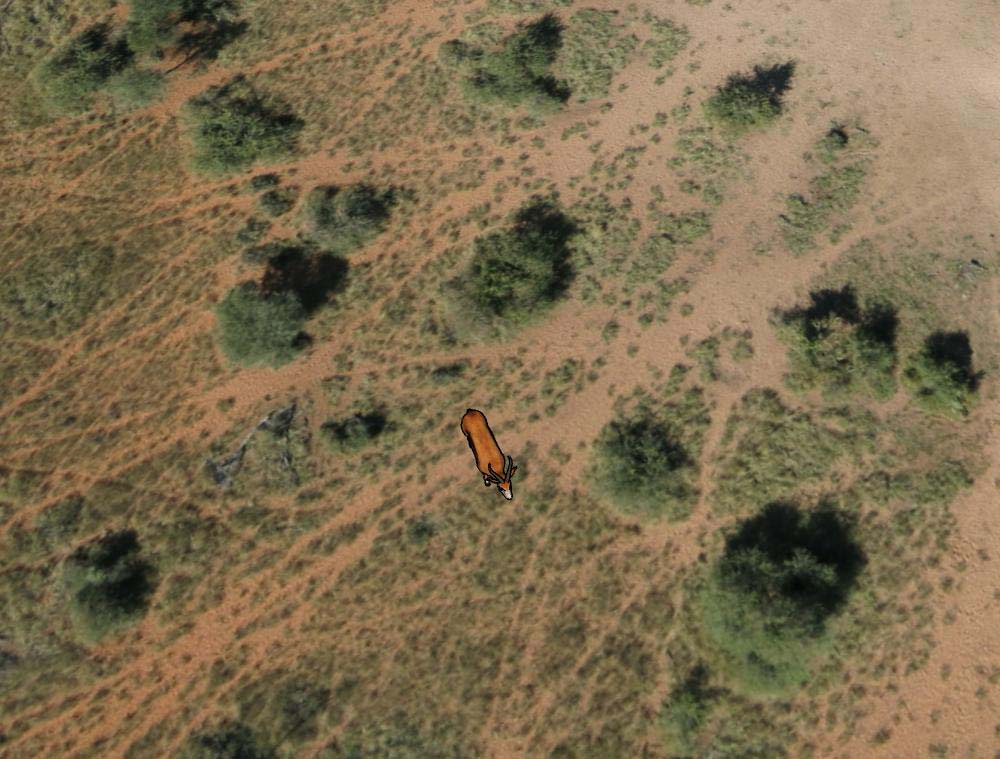springbok: (459, 400, 517, 504)
